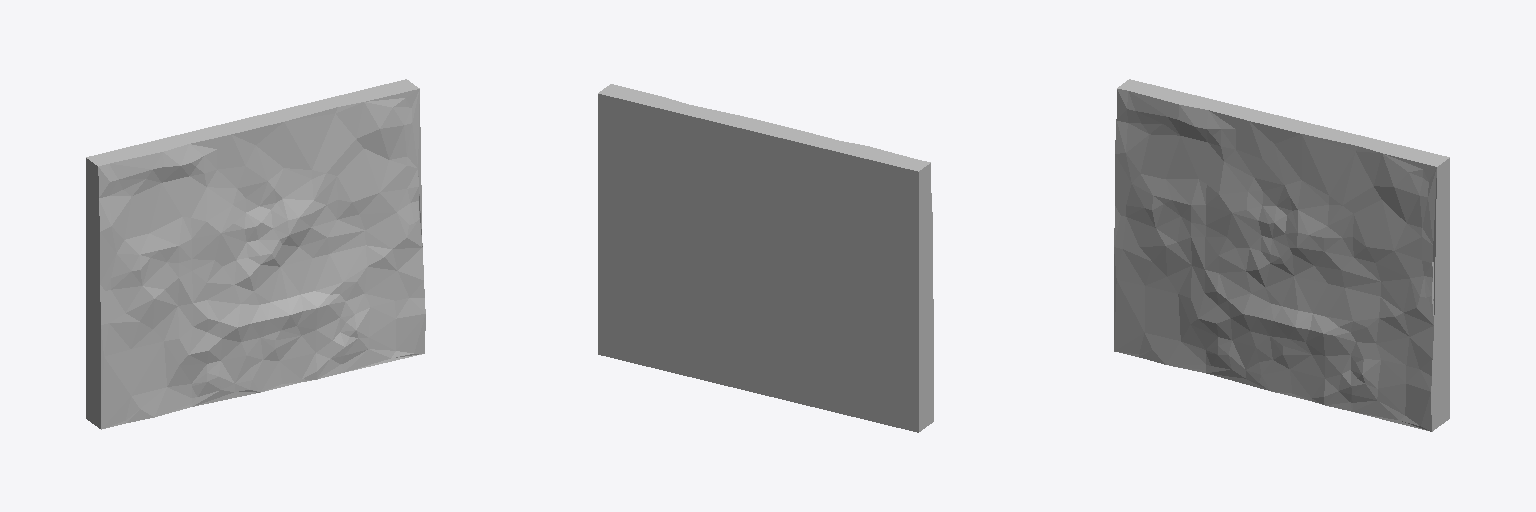
File: TUD_Campus2 v16.obj
3 views of the same model, side by side, from view 1: azimuth 30°, elevation 25°; view 2: azimuth 150°, elevation 25°; view 3: azimuth 330°, elevation 25° (orthographic).
Parts seen in each view (by area): view 1: ground; view 2: ground; view 3: ground.
Part boxes in pixels (x1,y1,x2,y2): ground: (86,79,425,429); ground: (598,84,933,432); ground: (1114,79,1449,431).
Bounding box in the file's own units: 80.69 × 62.76 × 8.53.